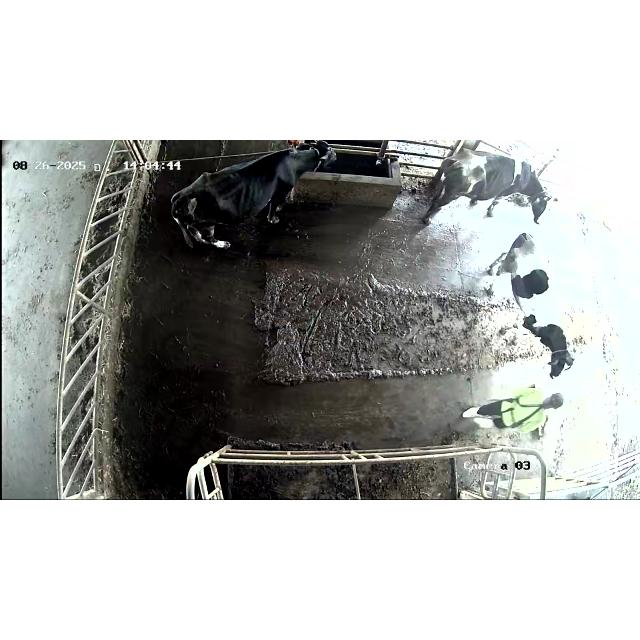stand: (482, 231, 580, 381), (416, 144, 558, 232)
